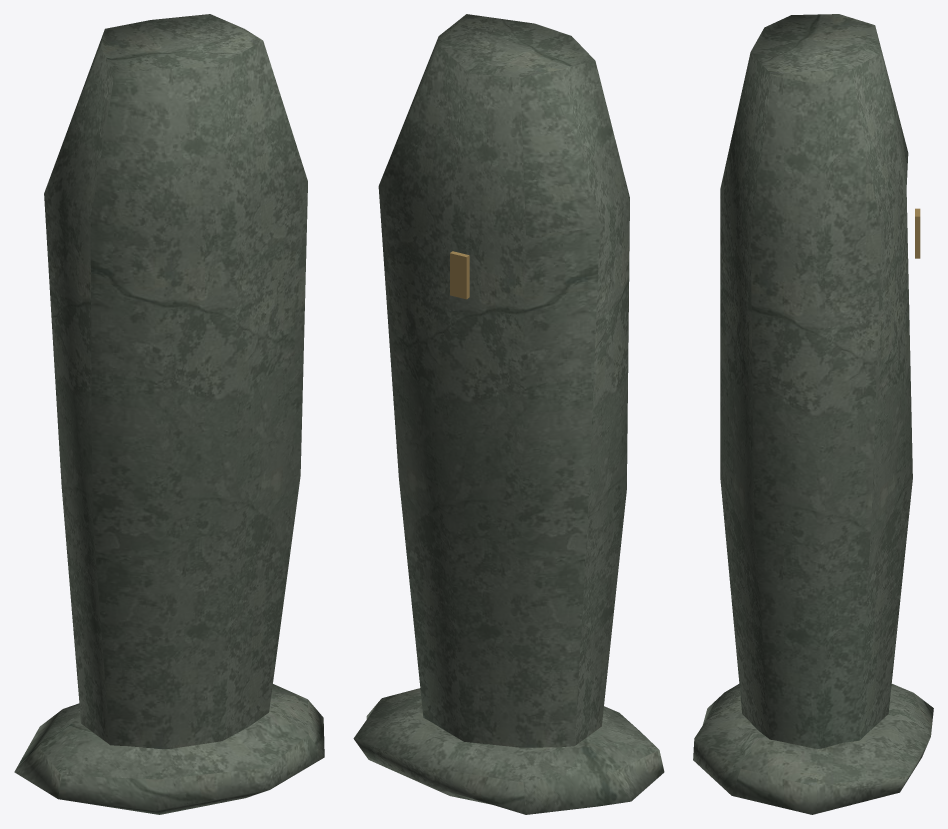
Rendered from distant-marker.desktop.glb.
3 renders of one model, left to right at view 1: azimuth 30°, elevation 25°; view 2: azimuth 150°, elevation 25°; view 3: azimuth 270°, elevation 25°, orthographic.
Visible parts, largest first — view 1: SA_F03_MESH_60; view 2: SA_F03_MESH_60, SA_F03_MESH_61; view 3: SA_F03_MESH_60.
Part boxes in pixels (x1,y1,x2,y2): SA_F03_MESH_60: (14,14,324,814); SA_F03_MESH_60: (353,14,664,814); SA_F03_MESH_61: (450,251,469,299); SA_F03_MESH_60: (693,14,933,814).
Bounding box in the file's own units: 0.78 × 1.89 × 0.574.
Materials: 2 (1 with a texture image).
